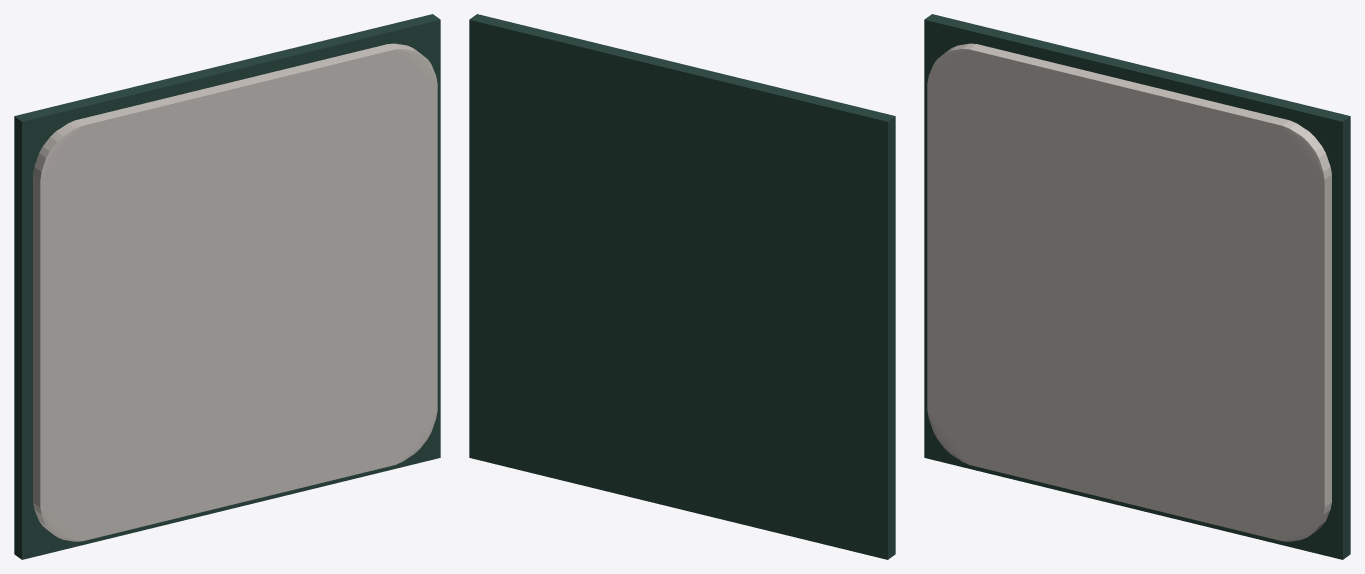
File: cpu.fbx
3 renders of one model, left to right at view 1: azimuth 30°, elevation 25°; view 2: azimuth 150°, elevation 25°; view 3: azimuth 330°, elevation 25°, orthographic.
Parts seen in each view (by area): view 1: Cube; view 2: Cube; view 3: Cube.
Boxes of the visible parts, x1,y1,x2,y2 form: Cube: [14, 14, 440, 559]; Cube: [469, 14, 895, 559]; Cube: [924, 14, 1350, 559].
Size of the model in its own units: 426 by 426 by 27.15.
